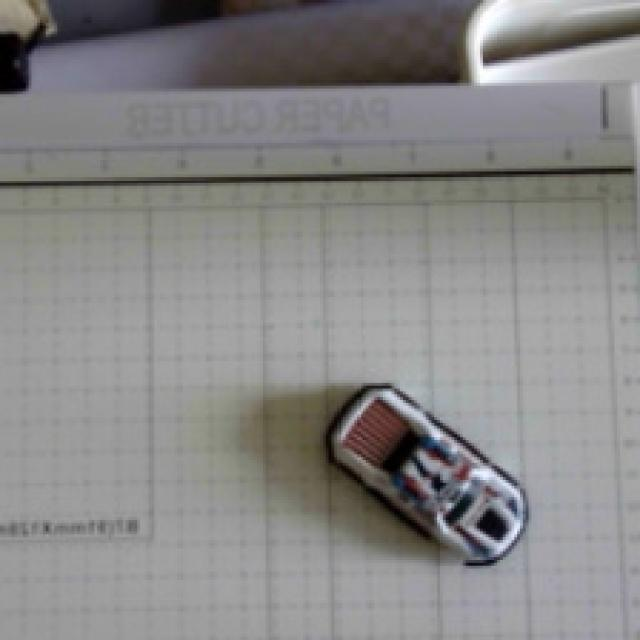Grey Car: (269, 330, 588, 590)
